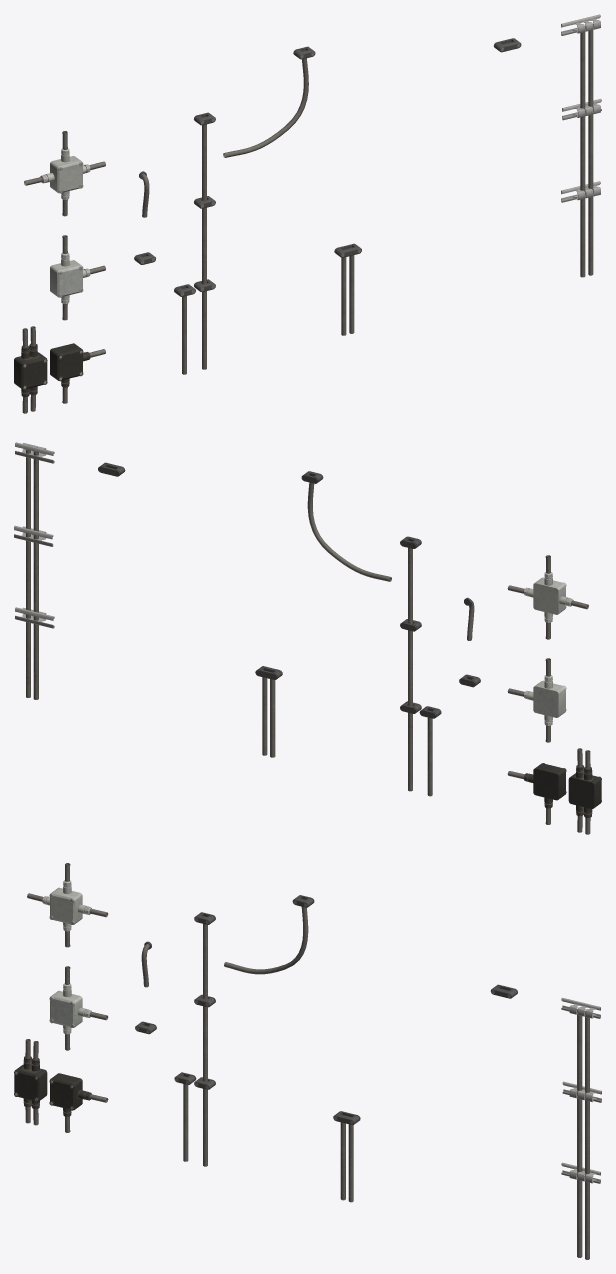
The model's file is modular_electric_cables.glb.
3 renders of one model, top to bottom at view 1: azimuth 30°, elevation 25°; view 2: azimuth 150°, elevation 25°; view 3: azimuth 330°, elevation 25°, orthographic.
Visible parts, largest first — view 1: cable_double_alt_long, cable_box_double, cable_box_4way, cable_straight_long, cable_box_3way, cable_box_turn, cable_double, cable_turn_long, cable_straight_medium; view 2: cable_double_alt_long, cable_box_double, cable_straight_long, cable_box_4way, cable_box_3way, cable_box_turn, cable_double, cable_turn_long, cable_straight_medium; view 3: cable_double_alt_long, cable_box_double, cable_straight_long, cable_box_4way, cable_box_3way, cable_box_turn, cable_double, cable_turn_long, cable_straight_medium.
Part boxes in pixels (x1=…): cable_double_alt_long: x1=561, y1=14, x2=601, y2=277; cable_box_double: x1=14, y1=326, x2=47, y2=413; cable_box_4way: x1=24, y1=131, x2=105, y2=216; cable_straight_long: x1=194, y1=112, x2=215, y2=369; cable_box_3way: x1=50, y1=235, x2=105, y2=320; cable_box_turn: x1=50, y1=343, x2=105, y2=403; cable_double: x1=334, y1=243, x2=361, y2=335; cable_turn_long: x1=223, y1=46, x2=315, y2=157; cable_straight_medium: x1=174, y1=284, x2=195, y2=374; cable_double_alt_long: x1=14, y1=442, x2=54, y2=699; cable_box_double: x1=568, y1=748, x2=601, y2=834; cable_straight_long: x1=400, y1=536, x2=421, y2=791; cable_box_4way: x1=507, y1=555, x2=588, y2=639; cable_box_3way: x1=507, y1=658, x2=566, y2=742; cable_box_turn: x1=507, y1=763, x2=566, y2=824; cable_double: x1=255, y1=666, x2=282, y2=757; cable_turn_long: x1=301, y1=471, x2=391, y2=581; cable_straight_medium: x1=419, y1=706, x2=441, y2=796; cable_double_alt_long: x1=561, y1=997, x2=601, y2=1259; cable_box_double: x1=14, y1=1039, x2=47, y2=1125; cable_straight_long: x1=194, y1=912, x2=215, y2=1166; cable_box_4way: x1=27, y1=863, x2=108, y2=947; cable_box_3way: x1=49, y1=966, x2=108, y2=1050; cable_box_turn: x1=49, y1=1073, x2=108, y2=1132; cable_double: x1=333, y1=1111, x2=360, y2=1202; cable_turn_long: x1=224, y1=895, x2=314, y2=974; cable_straight_medium: x1=174, y1=1072, x2=196, y2=1161.
Bounding box in the file's own units: 1.47 × 0.7073 × 0.0369.
Materials: 2 (2 with a texture image).
